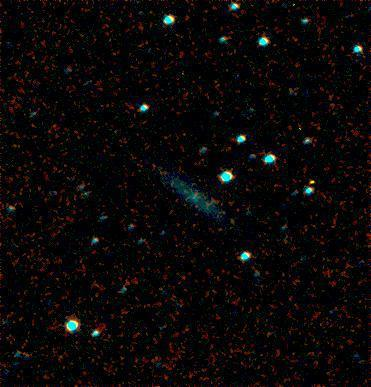star: (297, 168, 327, 198)
